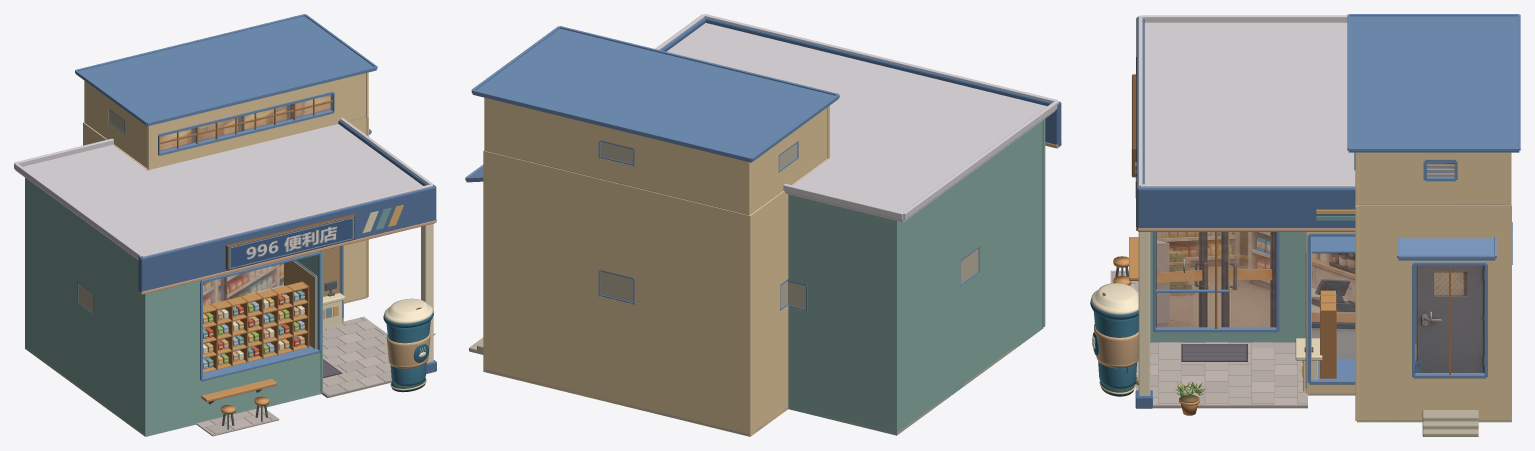
3 views of the same model, side by side, from view 1: azimuth 30°, elevation 25°; view 2: azimuth 150°, elevation 25°; view 3: azimuth 270°, elevation 25° (orthographic). The views are drawn at different scales.
Visible parts, largest first — view 1: SM_13_02_曲面屋顶, SM_13_01_建筑墙体, SM_13_04_门窗楼梯, SM_13_06_景观设施, SM_13_06_院内及专用铺地, SM_13_06_门前充气招牌, SM_13_03_木构回廊; view 2: SM_13_01_建筑墙体, SM_13_02_曲面屋顶, SM_13_04_门窗楼梯, SM_13_03_木构回廊; view 3: SM_13_02_曲面屋顶, SM_13_04_门窗楼梯, SM_13_01_建筑墙体, SM_13_06_院内及专用铺地, SM_13_06_门前充气招牌, SM_13_03_木构回廊, SM_13_06_景观设施, SM_13_05_景观植物.
Boxes of the visible parts, x1,y1,x2,y2 form: SM_13_02_曲面屋顶: [14, 14, 433, 260]; SM_13_01_建筑墙体: [25, 73, 367, 436]; SM_13_04_门窗楼梯: [77, 91, 436, 381]; SM_13_06_景观设施: [201, 280, 341, 429]; SM_13_06_院内及专用铺地: [196, 316, 435, 436]; SM_13_06_门前充气招牌: [383, 298, 433, 392]; SM_13_03_木构回廊: [144, 72, 436, 435]; SM_13_01_建筑墙体: [483, 97, 1043, 436]; SM_13_02_曲面屋顶: [465, 14, 1058, 222]; SM_13_04_门窗楼梯: [469, 17, 1061, 354]; SM_13_03_木构回廊: [827, 105, 1045, 327]; SM_13_02_曲面屋顶: [1138, 14, 1520, 260]; SM_13_04_门窗楼梯: [1131, 17, 1512, 436]; SM_13_01_建筑墙体: [1151, 152, 1511, 422]; SM_13_06_院内及专用铺地: [1110, 270, 1307, 408]; SM_13_06_门前充气招牌: [1090, 283, 1138, 396]; SM_13_03_木构回廊: [1135, 152, 1358, 420]; SM_13_06_景观设施: [1113, 237, 1336, 391]; SM_13_05_景观植物: [1174, 381, 1205, 415].
Bounding box in the file's own units: 11.67 × 7.54 × 10.59.
48 materials, 2 textured.
